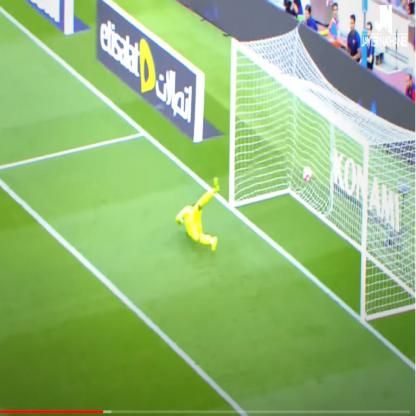goal: (164, 33, 379, 298)
